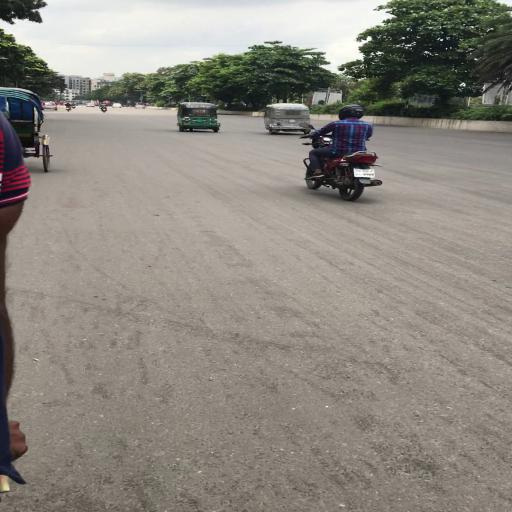car: (112, 104, 123, 108), (87, 103, 95, 108)
minivan: (136, 103, 147, 109)
motorbike: (302, 126, 385, 204), (101, 103, 108, 113), (66, 104, 72, 113), (73, 103, 77, 109)
rickshaw: (1, 88, 43, 174)
suv: (43, 102, 58, 112)
three wheelers (CNG): (174, 102, 221, 134), (263, 104, 304, 136)
